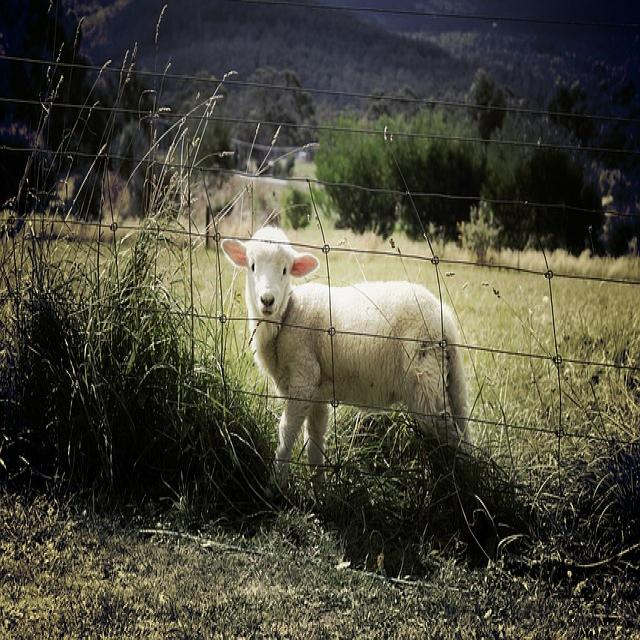goat: (221, 225, 474, 487)
